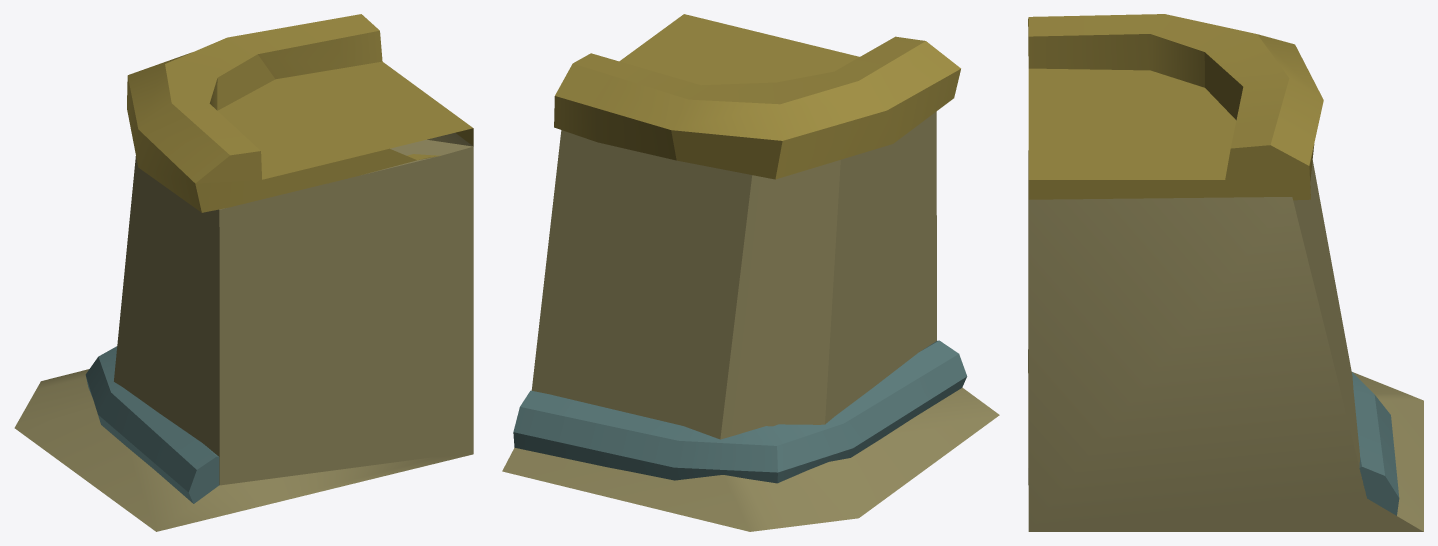
The model's file is Int_35_Corner_Block_Round_D_R.fbx.
3 views of the same model, side by side, from view 1: azimuth 30°, elevation 25°; view 2: azimuth 150°, elevation 25°; view 3: azimuth 270°, elevation 25° (orthographic). The views are drawn at different scales.
Parts seen in each view (by area): view 1: Int_35_Corner_Block_Round_D_R; view 2: Int_35_Corner_Block_Round_D_R; view 3: Int_35_Corner_Block_Round_D_R.
Part boxes in pixels (bbox=[...]): Int_35_Corner_Block_Round_D_R: bbox=[14, 14, 473, 531]; Int_35_Corner_Block_Round_D_R: bbox=[502, 14, 999, 531]; Int_35_Corner_Block_Round_D_R: bbox=[1028, 14, 1423, 531].
Size of the model in its own units: 1 by 1.09 by 1.
